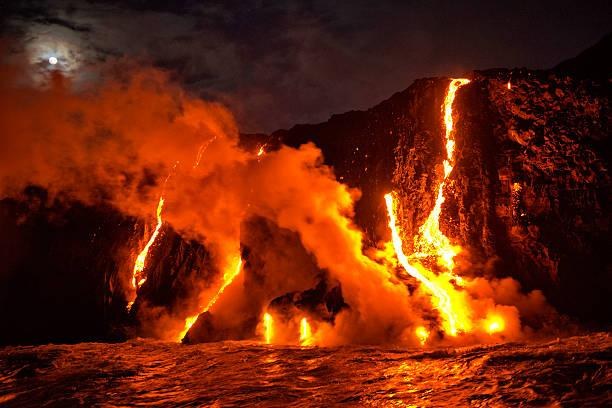Fire: (62, 40, 524, 332), (534, 41, 538, 58)
